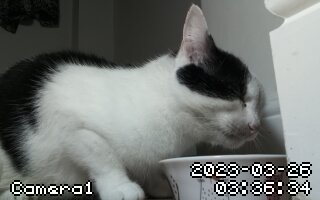bad: (6, 5, 264, 200)
